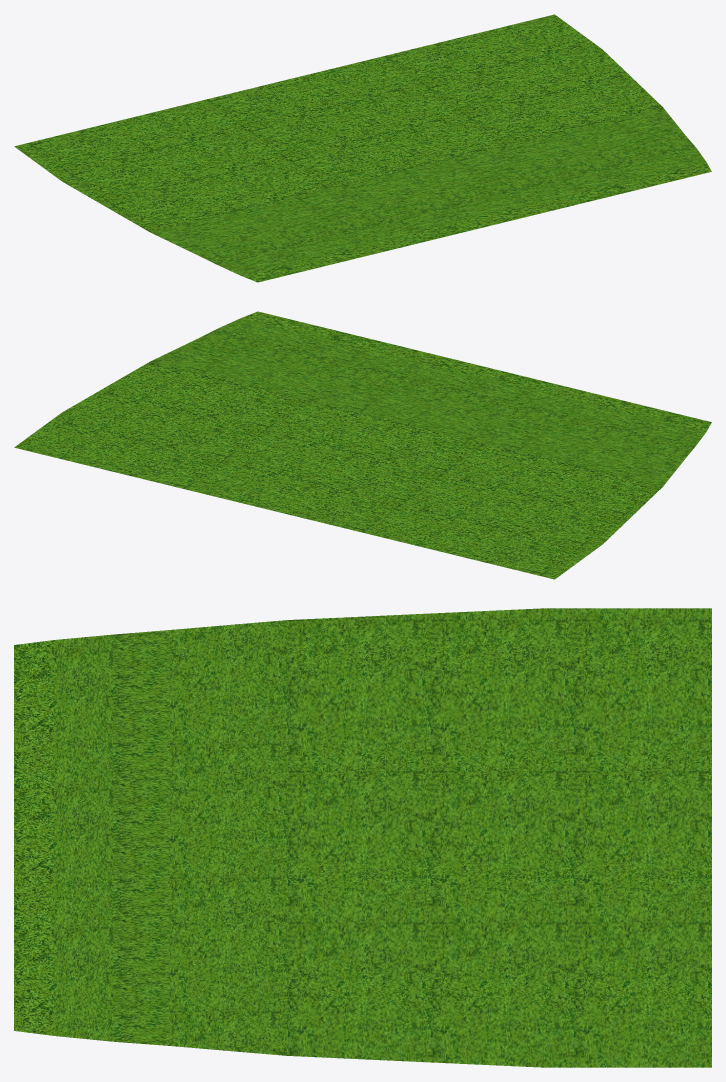
Rendered from Pasto.fbx.
The picture shows the model from 3 angles, top to bottom: view 1: azimuth 30°, elevation 25°; view 2: azimuth 150°, elevation 25°; view 3: azimuth 270°, elevation 25°; orthographic projection. The views are drawn at different scales.
Parts seen in each view (by area): view 1: Pasto; view 2: Pasto; view 3: Pasto.
Part boxes in pixels (<box>): Pasto: <box>14,14,711,282</box>; Pasto: <box>14,311,711,579</box>; Pasto: <box>14,608,711,1067</box>.
Bounding box in the file's own units: 4203 × 0.00106 × 2699.
Materials: 1 (1 with a texture image).
